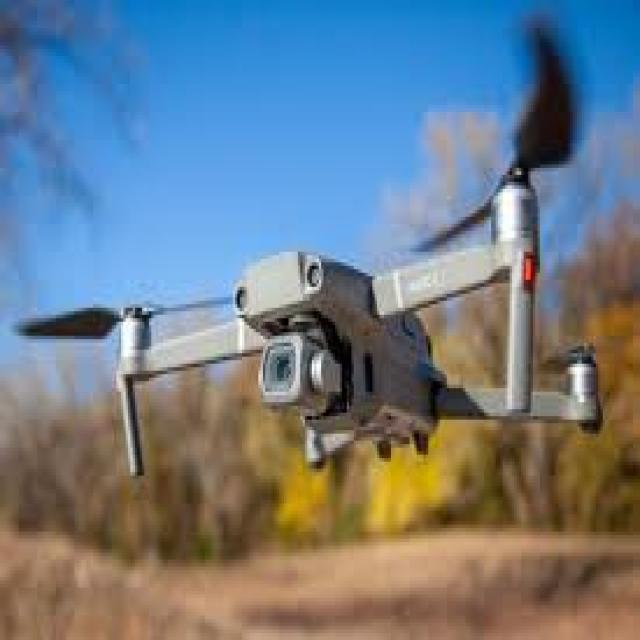drone: (49, 182, 624, 486)
